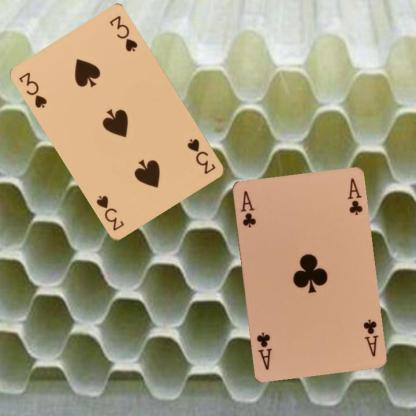3s: (184, 136, 218, 176), (16, 69, 49, 110)
Ac: (360, 316, 380, 358), (238, 188, 257, 229)
